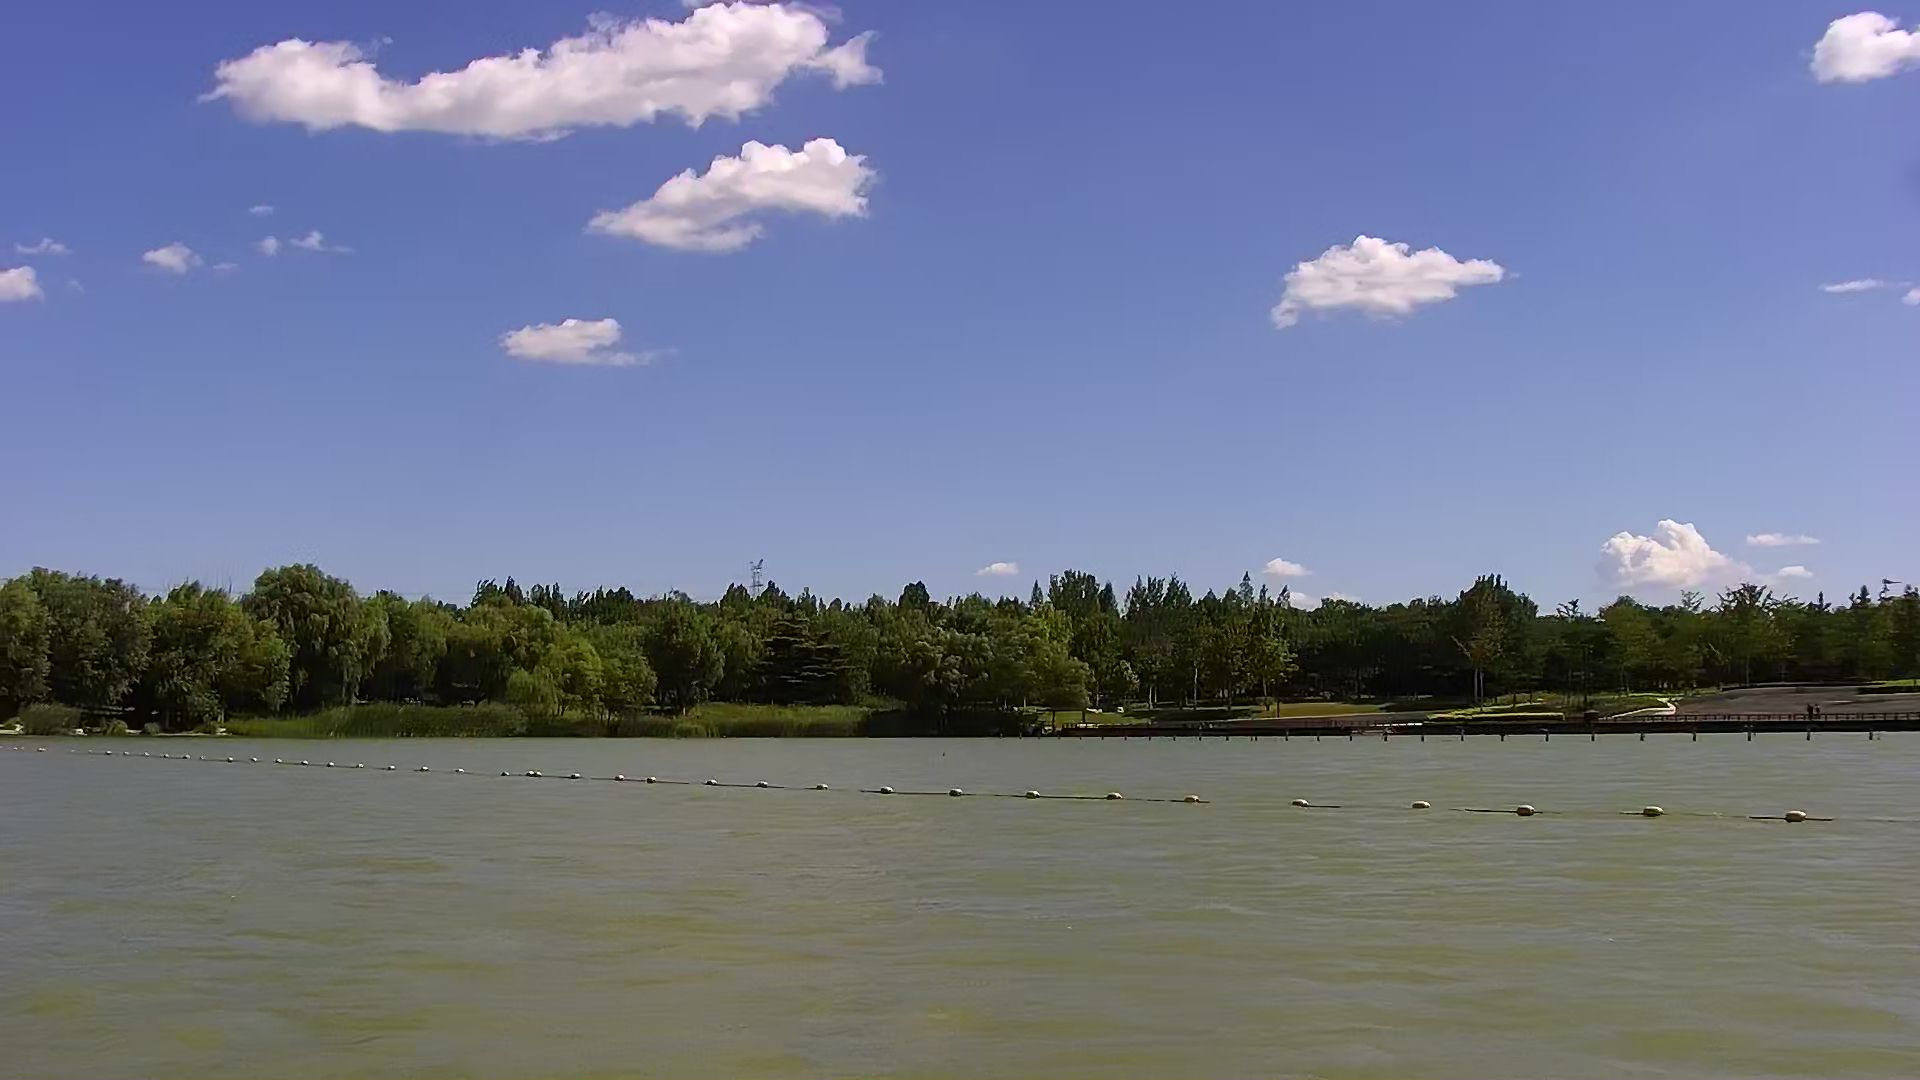ball: (1778, 798, 1822, 833), (1399, 786, 1441, 822), (1636, 793, 1675, 828), (1284, 782, 1319, 816), (873, 778, 911, 808), (1011, 771, 1051, 800), (1178, 785, 1211, 816), (943, 781, 978, 808), (1515, 796, 1542, 820)
